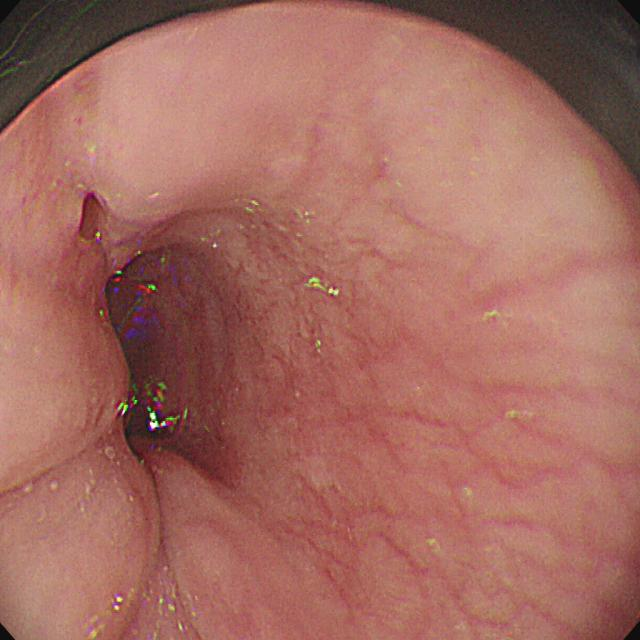A: (229, 258, 322, 444)
E: (93, 239, 230, 490)
T: (124, 372, 192, 443), (113, 261, 161, 340)
